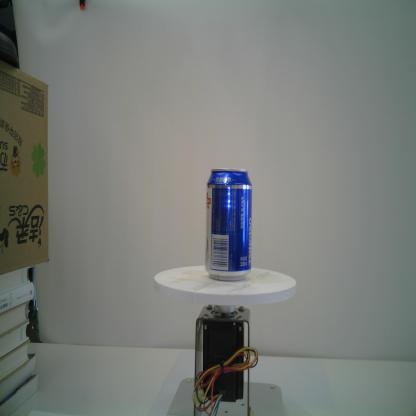Alcohol: (204, 167, 252, 283)
